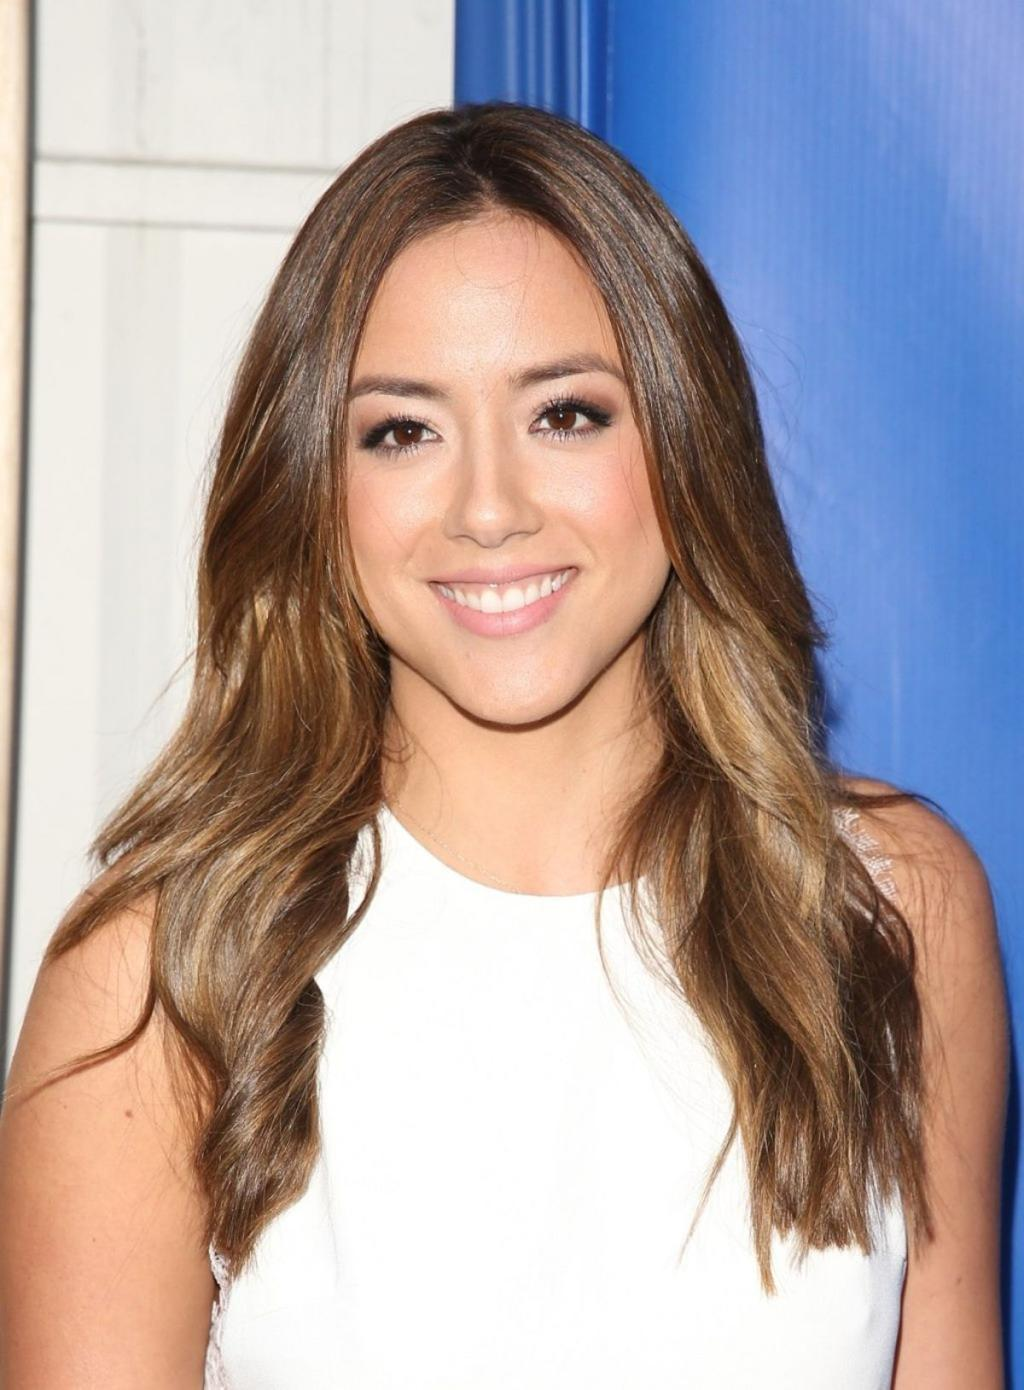face: (324, 216, 672, 727)
